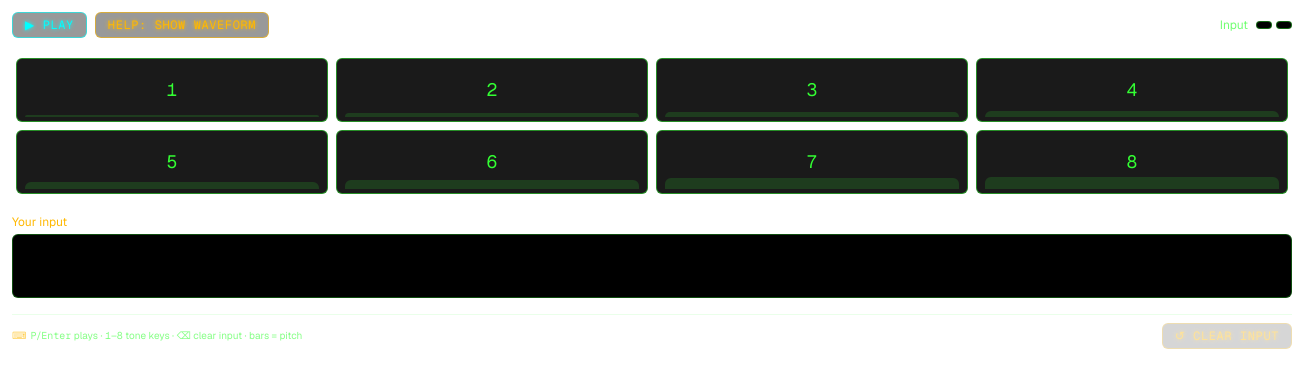
Scenario: tones ui › Backspace / reset clears a partial input
This screenshot has width=1304, height=366.
Press 3
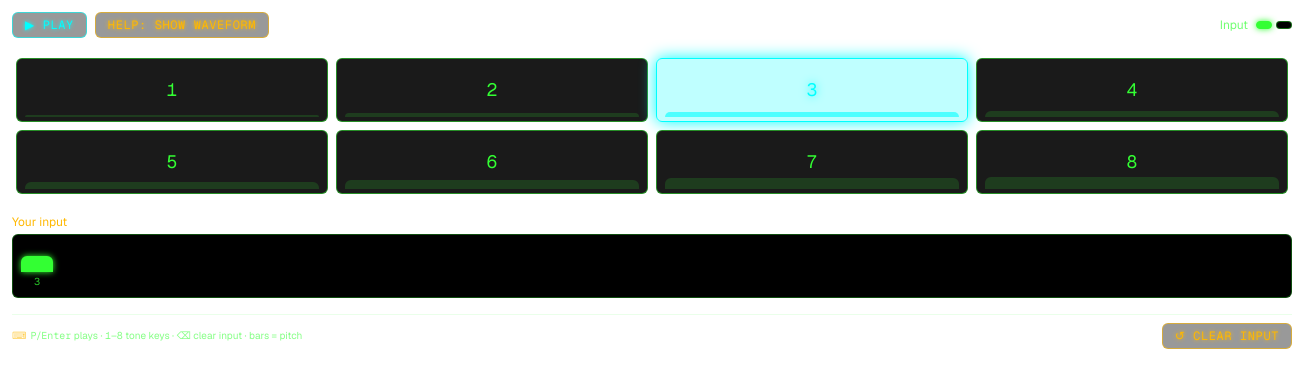
Press Backspace
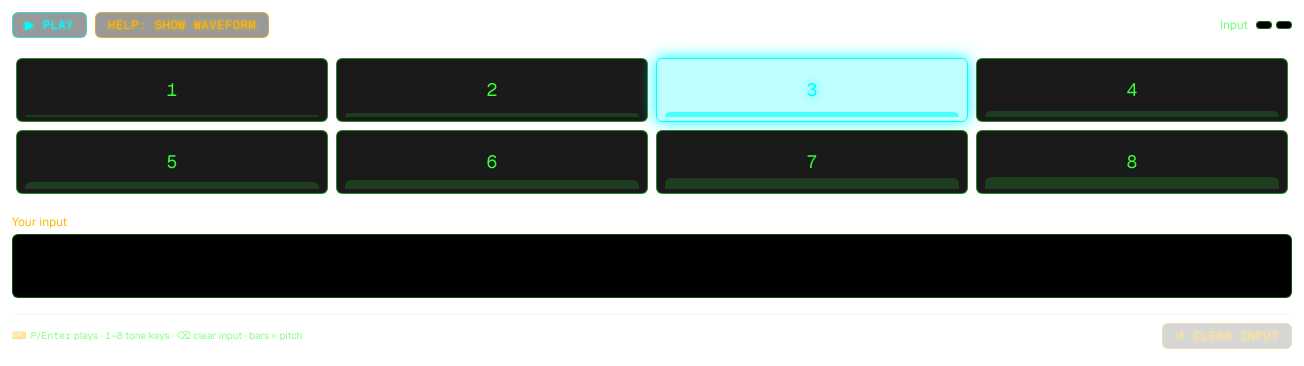
Check: the picture named "Input: 0 / 2" is shown, box x1=1256 y1=21 x2=1292 y2=29
Press 3
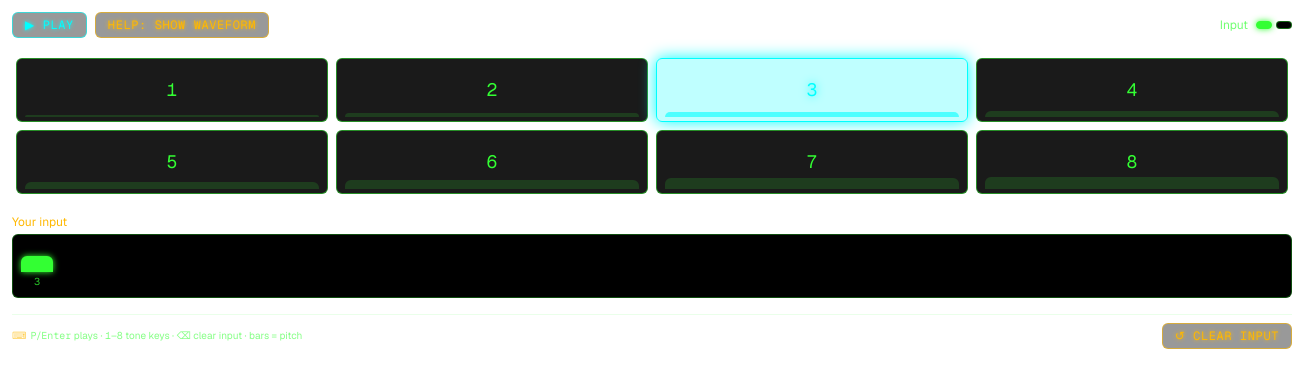
Click the button "↺ Clear input".
click(1227, 336)  # box x1=1162 y1=323 x2=1292 y2=349
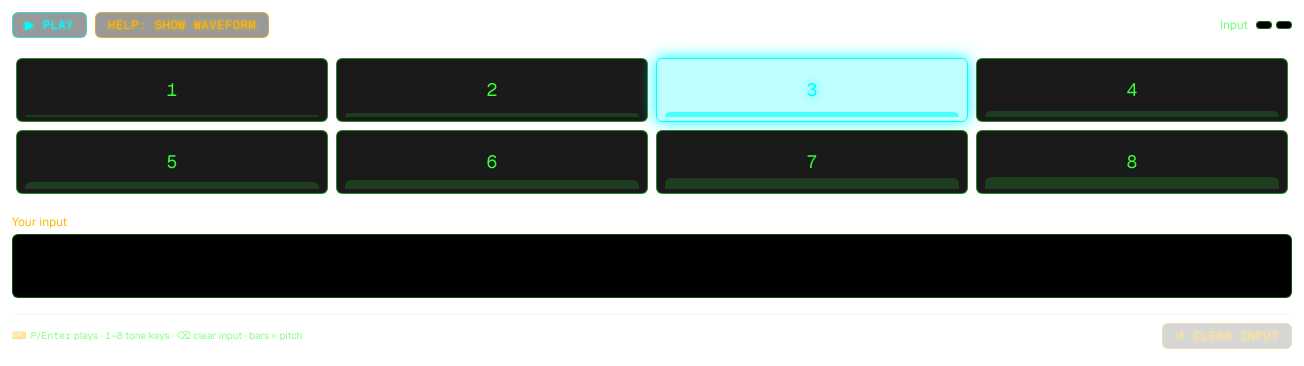
Check: the picture named "Input: 0 / 2" is shown, box x1=1256 y1=21 x2=1292 y2=29
